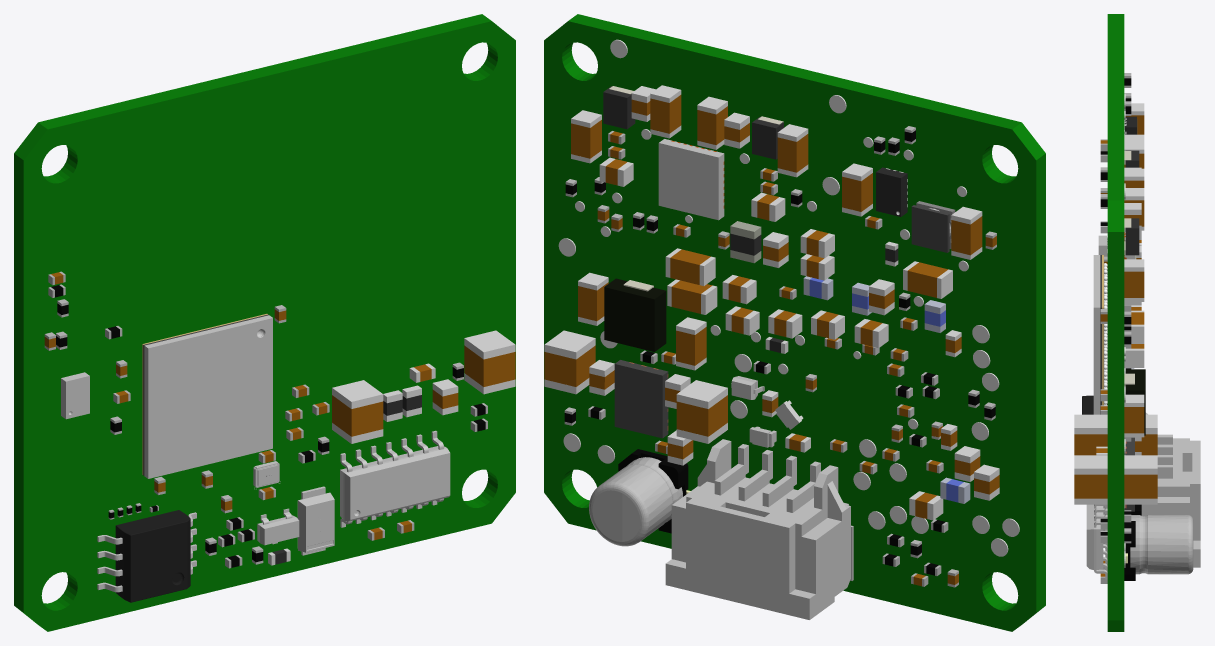
The model's file is ROAS.glb.
3 renders of one model, left to right at view 1: azimuth 30°, elevation 25°; view 2: azimuth 150°, elevation 25°; view 3: azimuth 270°, elevation 25°, orthographic. The views are drawn at different scales.
Parts seen in each view (by area): view 1: empty_637, empty_1345, empty_649, empty_1331, empty_700, empty_410, empty_411, empty_324, empty_322, empty_1251; view 2: empty_637, empty_1375, empty_725, empty_706, empty_73, empty_651, empty_1364, empty_1367, empty_650, empty_338, empty_342, empty_697 (+18 smaller); view 3: empty_637, empty_725, empty_1367, empty_1347, empty_342, empty_411, empty_1396, empty_322, empty_253, empty_324, empty_410, empty_345 (+28 smaller).
Part boxes in pixels (box(x1,y1,x2,y2)): empty_637: box(14, 14, 515, 631); empty_1345: box(148, 318, 272, 478); empty_649: box(115, 510, 190, 602); empty_1331: box(350, 453, 450, 519); empty_700: box(297, 492, 334, 552); empty_410: box(332, 395, 383, 436); empty_411: box(464, 345, 515, 386); empty_324: box(464, 330, 515, 359); empty_322: box(332, 380, 383, 408); empty_1251: box(66, 376, 89, 419); empty_637: box(544, 14, 1045, 631); empty_1375: box(665, 503, 809, 619); empty_725: box(589, 457, 682, 546); empty_706: box(658, 139, 724, 220); empty_73: box(604, 278, 666, 351); empty_651: box(614, 360, 668, 438); empty_1364: box(809, 506, 850, 619); empty_1367: box(686, 477, 821, 527); empty_650: box(911, 205, 949, 252); empty_338: box(676, 395, 727, 436); empty_342: box(544, 345, 595, 386); empty_697: box(876, 167, 907, 216); empty_637: box(1107, 14, 1124, 631); empty_725: box(1130, 515, 1193, 574); empty_1367: box(1157, 438, 1200, 486); empty_1347: box(1093, 307, 1100, 414); empty_342: box(1124, 474, 1157, 498); empty_411: box(1074, 474, 1107, 498); empty_1396: box(1141, 503, 1200, 567); empty_322: box(1074, 414, 1107, 434); empty_253: box(1124, 455, 1157, 474); empty_324: box(1074, 455, 1107, 474); empty_410: box(1074, 434, 1107, 455); empty_345: box(1124, 407, 1144, 433).
Size of the model in its own units: 41 by 40 by 10.61.
